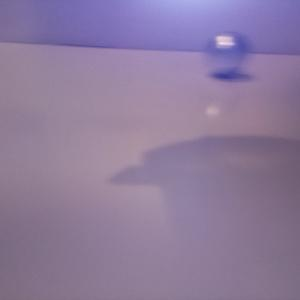alive_ball: (206, 31, 246, 74)
